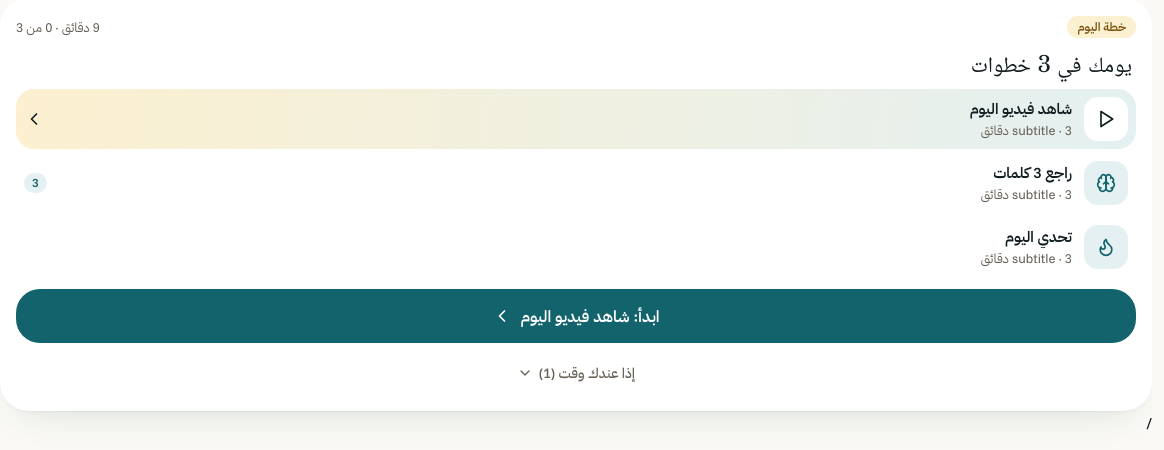
Test: the button › starts with the first step on a fresh day
Click the button "ابدأ: شاهد فيديو اليوم". click: (576, 316)
box: [16,289,1136,343]
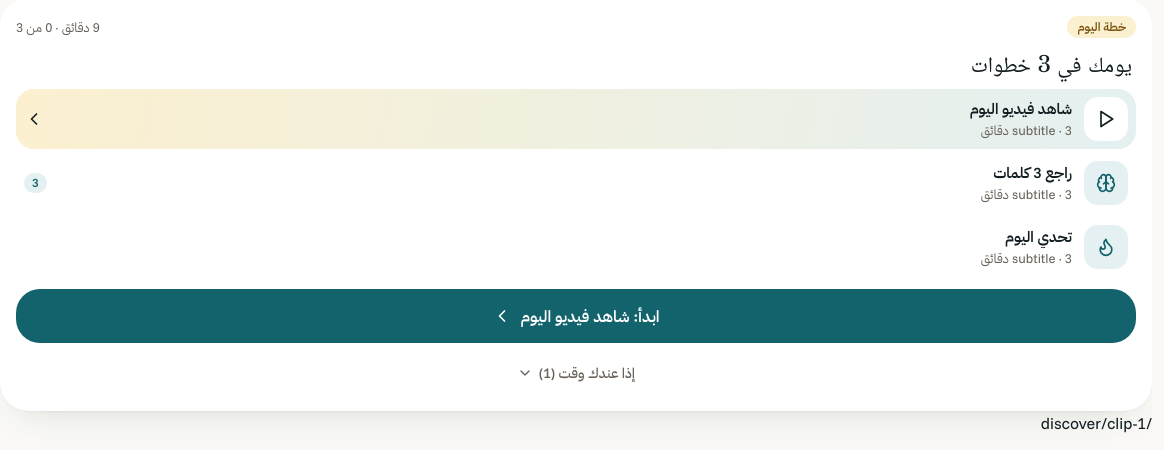
Check: the text with test id "where" reads "/discover/clip-1", box [1041,413,1152,433]
